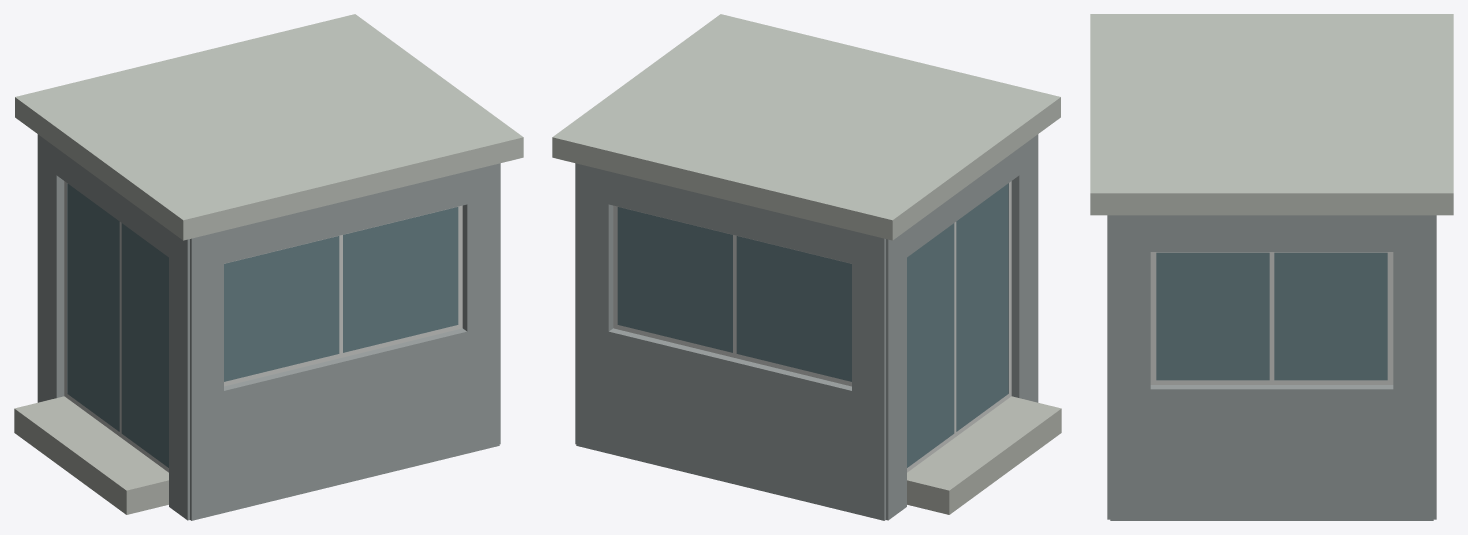
The picture shows the model from 3 angles, left to right: view 1: azimuth 30°, elevation 25°; view 2: azimuth 150°, elevation 25°; view 3: azimuth 270°, elevation 25°; orthographic projection. The views are drawn at different scales.
Visible parts, largest first — view 1: guard__wall, guard__roof, guard__glass, guard__threshold, guard__frame; view 2: guard__wall, guard__roof, guard__glass, guard__threshold, guard__frame; view 3: guard__roof, guard__wall, guard__glass, guard__frame.
Boxes of the visible parts, bbox=[...] form: guard__wall: bbox=[37, 134, 500, 520]; guard__roof: bbox=[15, 14, 523, 240]; guard__glass: bbox=[67, 183, 458, 467]; guard__threshold: bbox=[14, 396, 168, 514]; guard__frame: bbox=[64, 181, 462, 472]; guard__wall: bbox=[575, 134, 1038, 520]; guard__roof: bbox=[552, 14, 1060, 240]; guard__glass: bbox=[617, 183, 1008, 467]; guard__threshold: bbox=[907, 396, 1061, 514]; guard__frame: bbox=[613, 181, 1011, 472]; guard__roof: bbox=[1090, 14, 1453, 215]; guard__wall: bbox=[1107, 215, 1436, 520]; guard__glass: bbox=[1156, 252, 1387, 380]; guard__frame: bbox=[1150, 252, 1393, 384].
Size of the model in its own units: 3.8 by 3.07 by 3.
